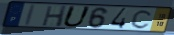4: (109, 7, 128, 30)
6: (87, 7, 108, 29)
C: (130, 9, 154, 30)
H: (41, 5, 69, 28)
I: (22, 3, 37, 27)
U: (61, 5, 93, 28)
